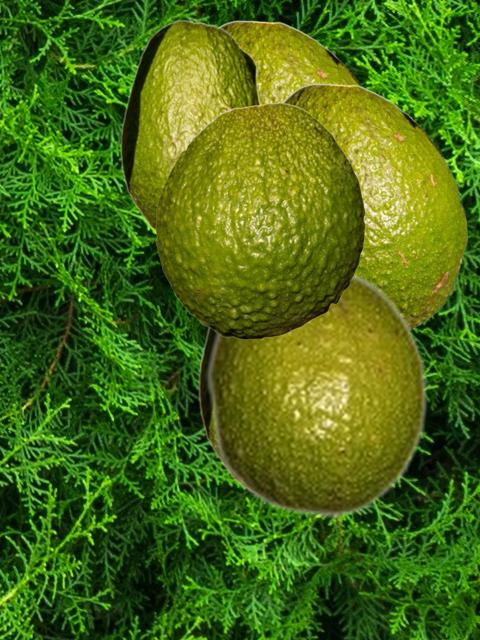avocado: (205, 269, 428, 519), (155, 102, 364, 338), (281, 83, 466, 330), (120, 19, 262, 230), (218, 20, 364, 103), (198, 327, 236, 482)
